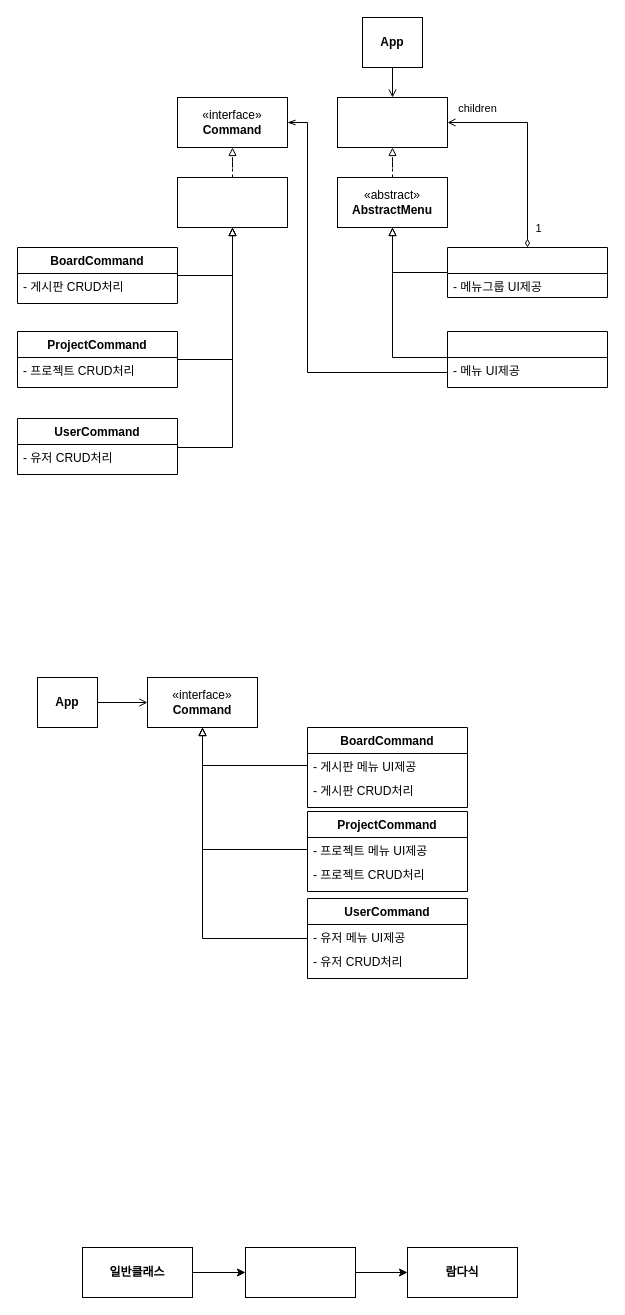
Image size: 625x1315. Some labels were removed from this diagram. Here are the shapes that lost their labels. From the top down, the box of each, then its label:
(336, 96, 448, 148): «interface» Menu
(176, 176, 288, 228): «abstract» AbstractCommand
(446, 246, 608, 298): MenuGroup
(446, 330, 608, 388): MenuItem
(244, 1246, 356, 1298): 익명클래스
